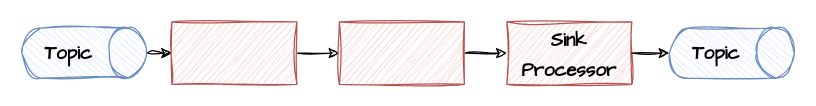
This 816x106 diagram has some shape labels left out. The centre of each missing label's shape, as x and y in pixels:
"filter() processor" belongs at (x=401, y=52).
"Source Processor" belongs at (x=234, y=52).
